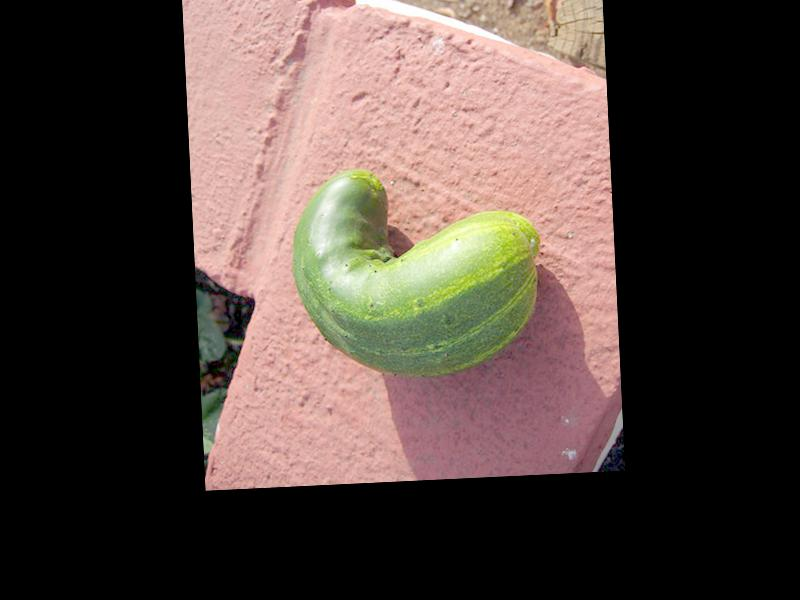Cucumber: (288, 158, 544, 381)
